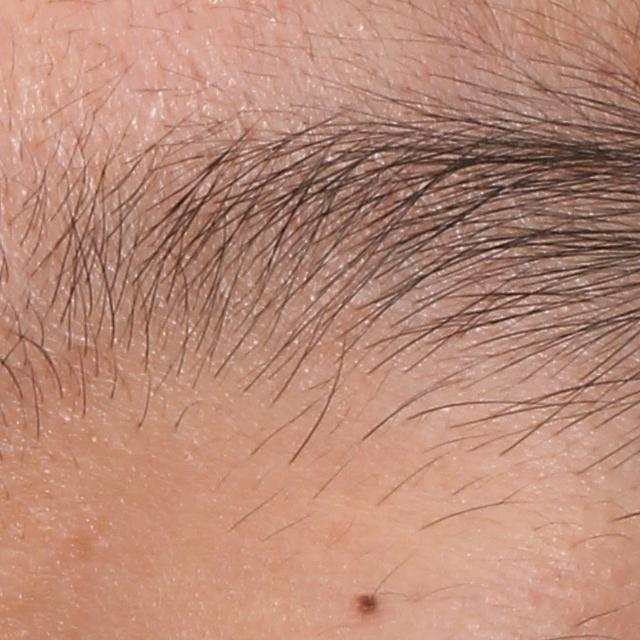nevus: (351, 590, 386, 622)
